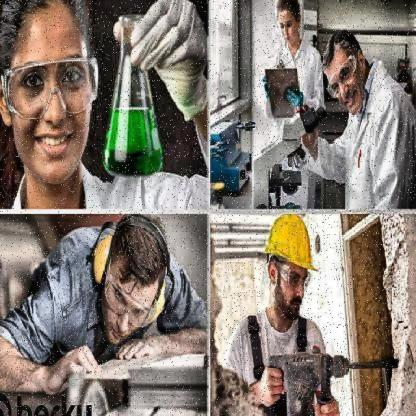oculos: (1, 57, 109, 120), (92, 267, 160, 327), (261, 253, 325, 297), (316, 59, 375, 100)
